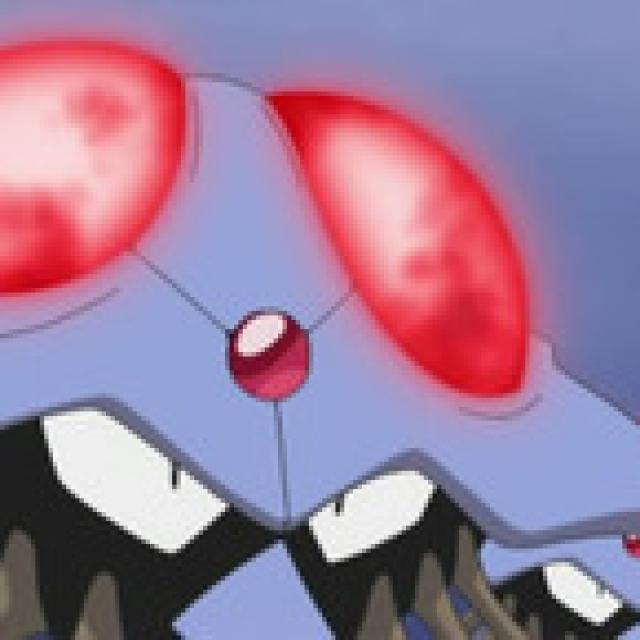Tentacruel: (1, 167, 531, 640)
